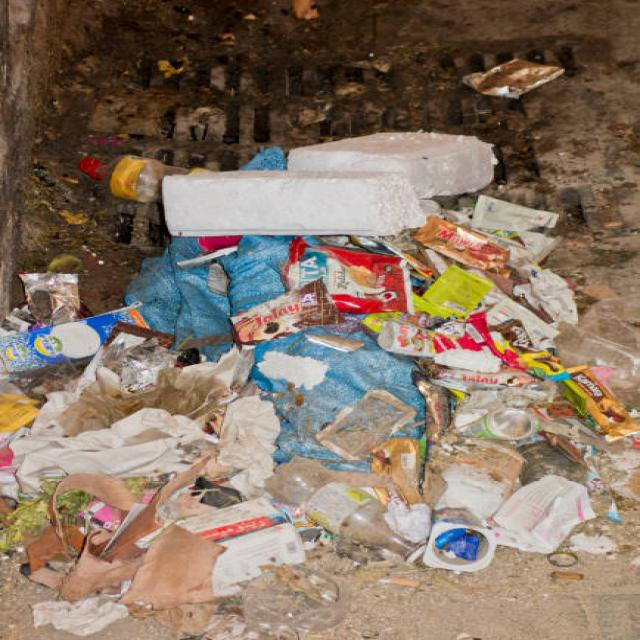paper: (53, 531, 246, 609)
plastic: (215, 240, 593, 562)
